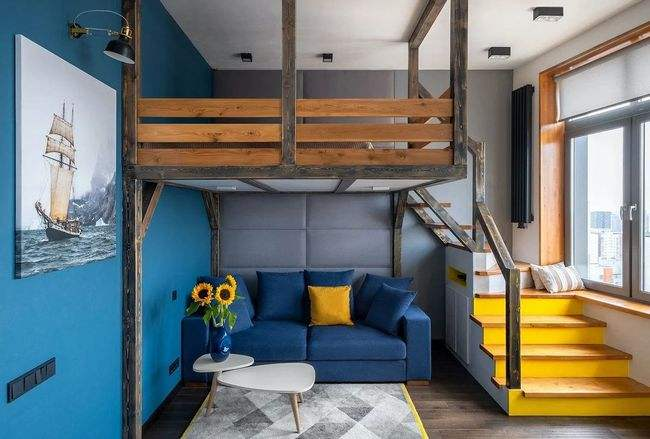枕头: (257, 271, 419, 336), (527, 264, 588, 295)
灯: (65, 12, 141, 68), (529, 5, 568, 27), (486, 45, 513, 63), (319, 53, 335, 66), (237, 51, 252, 63)
